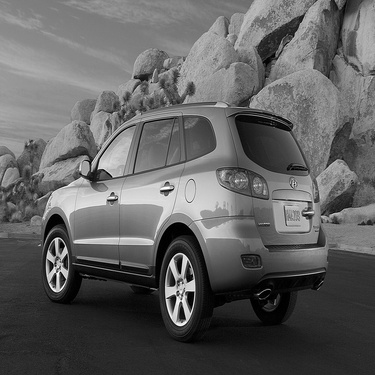car: (35, 86, 334, 348)
